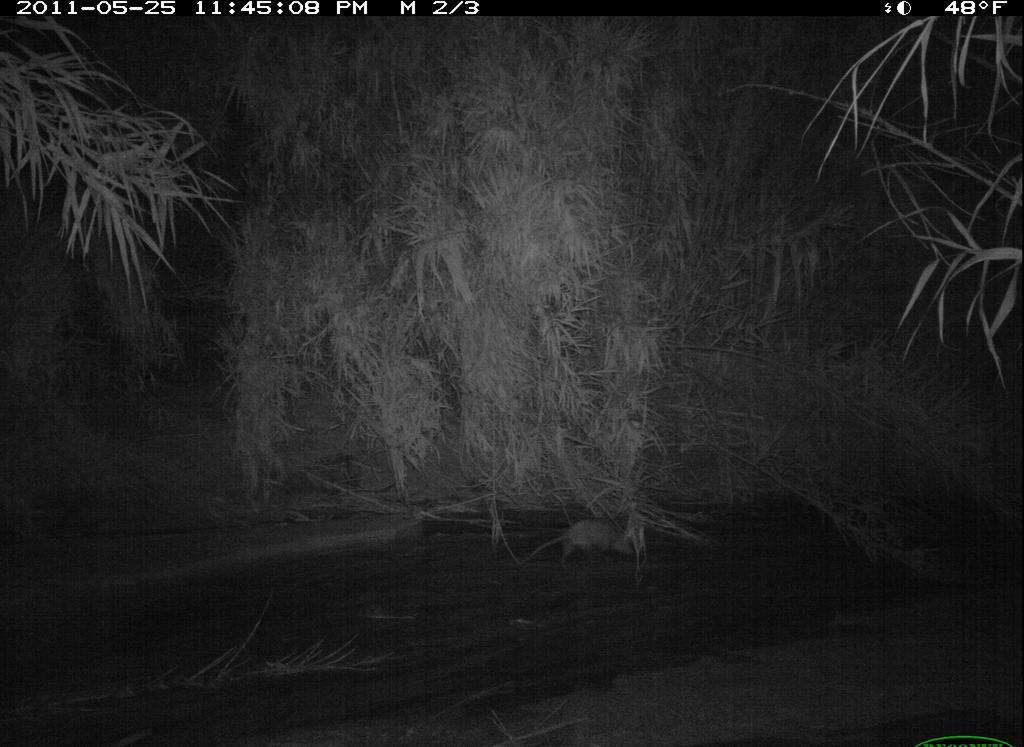opossum: (523, 518, 658, 593)
